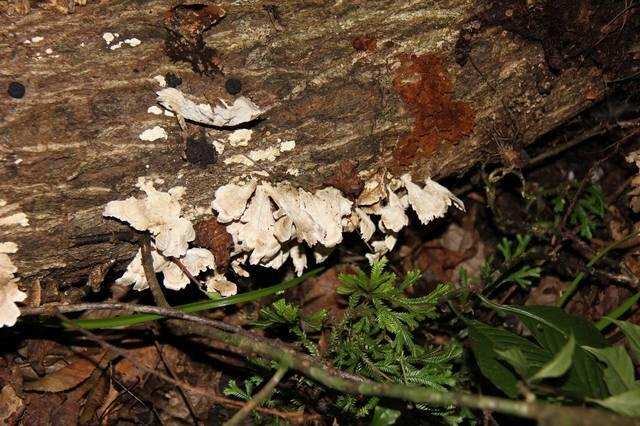poisonous_mushroom: (80, 83, 459, 279)
